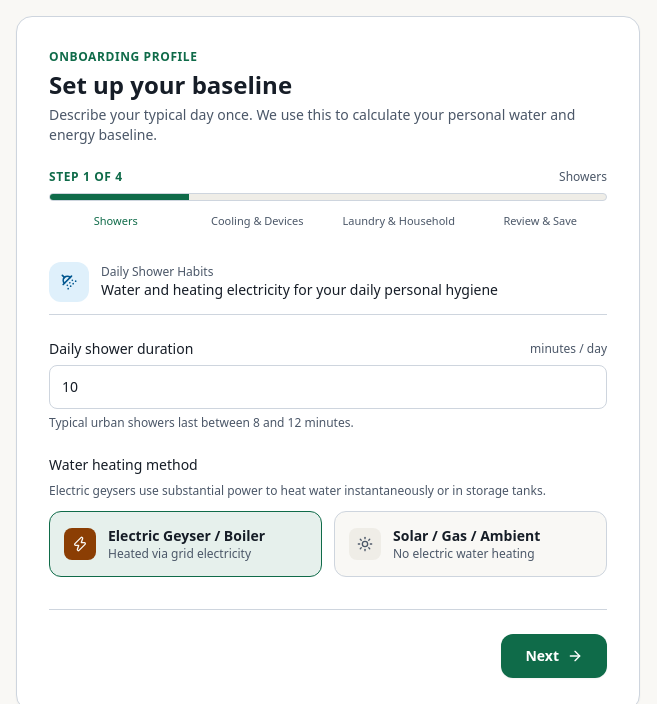
Test case: Onboarding Wizard Component › renders step 1 with default habits and advances when valid
This screenshot has width=657, height=704.
Expected: the heading "Set up your baseline" is shown, left=49, top=68, right=292, bottom=101
Expected: the number field labelled "Daily shower duration" is shown, left=49, top=364, right=607, bottom=408
// Advance to Step 2
Click the button "Next".
click(554, 656)  # box left=502, top=634, right=607, bottom=678
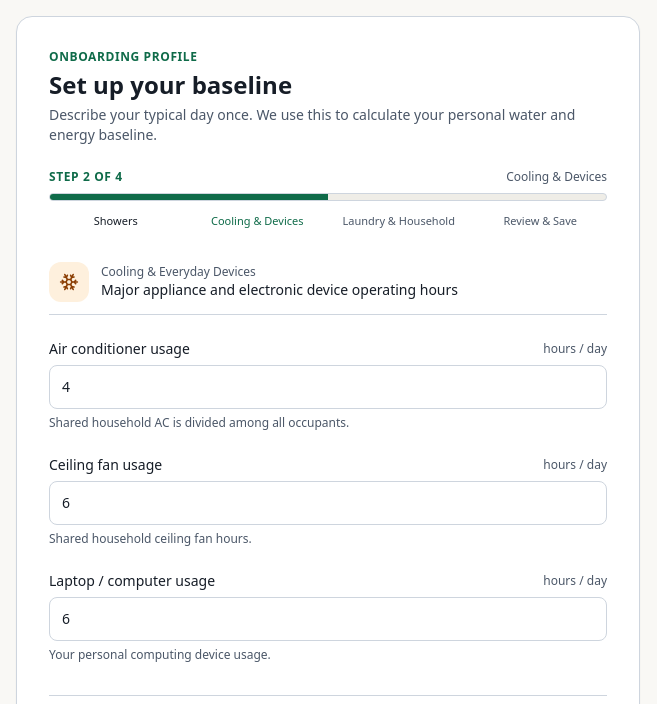
Expected: the number field labelled "Air conditioner usage" is shown, left=49, top=364, right=607, bottom=408
